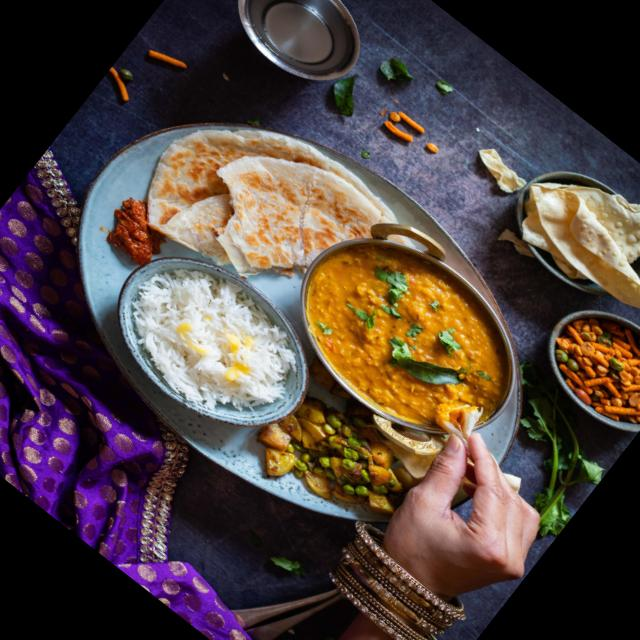dal: (281, 212, 534, 453)
rice: (110, 249, 304, 436)
